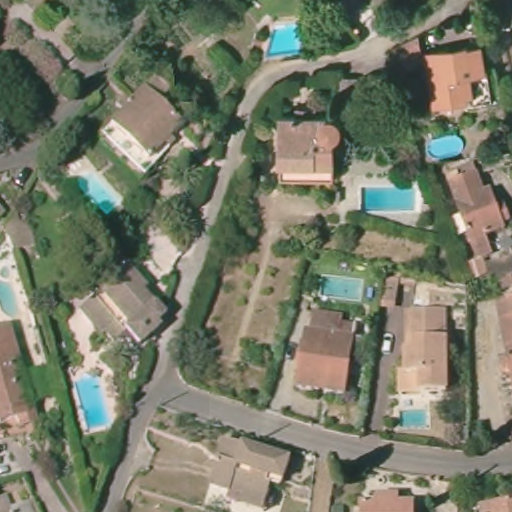pool: (68, 368, 122, 437), (71, 162, 125, 217), (355, 177, 424, 217), (262, 19, 319, 62), (311, 271, 369, 306), (1, 257, 27, 319), (427, 130, 470, 162), (391, 405, 434, 431)
